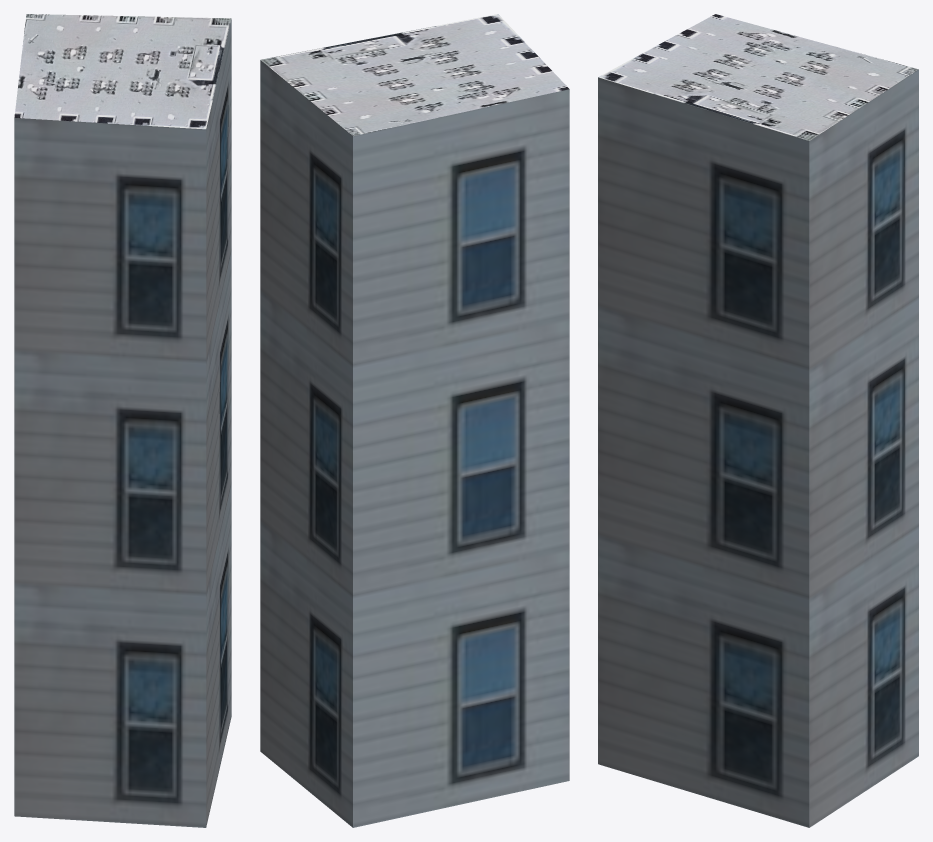
File: ResTex__4620.fbx
3 renders of one model, left to right at view 1: azimuth 30°, elevation 25°; view 2: azimuth 150°, elevation 25°; view 3: azimuth 270°, elevation 25°, orthographic.
Visible parts, largest first — view 1: CityEngineMaterial_18_m, CityEngineMaterial_8_m; view 2: CityEngineMaterial_18_m, CityEngineMaterial_8_m; view 3: CityEngineMaterial_18_m, CityEngineMaterial_8_m.
Part boxes in pixels (<box>): CityEngineMaterial_18_m: <box>14,19,231,827</box>; CityEngineMaterial_8_m: <box>14,14,231,129</box>; CityEngineMaterial_18_m: <box>260,60,569,827</box>; CityEngineMaterial_8_m: <box>260,14,569,136</box>; CityEngineMaterial_18_m: <box>598,69,918,827</box>; CityEngineMaterial_8_m: <box>598,14,918,140</box>.
Size of the model in its own units: 3.57 by 9 by 3.81.
2 materials, 2 textured.
